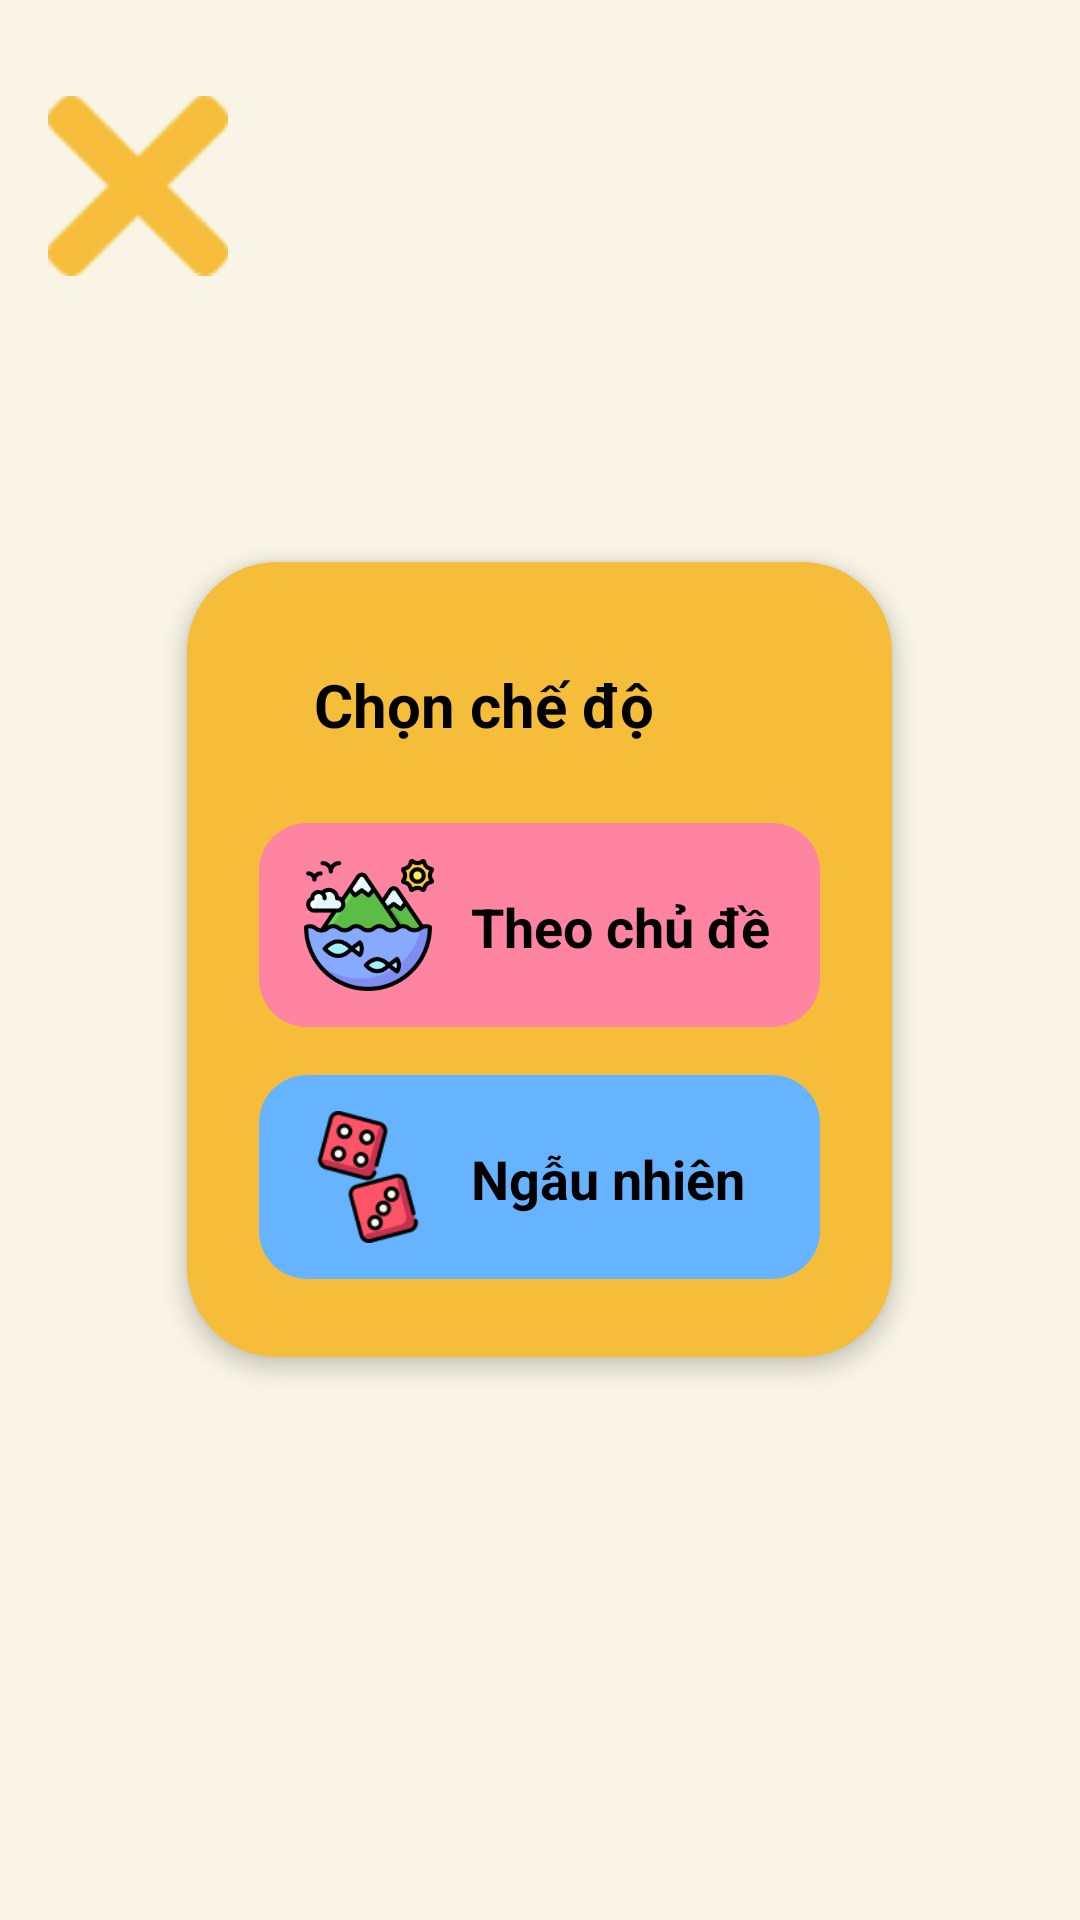

Named icons in this screenshot (1080w x 1920h) and their bounding boxes, {"left": x1, "top": y1, "right": x2, "bottom": y2}:
close: {"left": 48, "top": 96, "right": 228, "bottom": 276}
random: {"left": 317, "top": 1111, "right": 419, "bottom": 1243}
